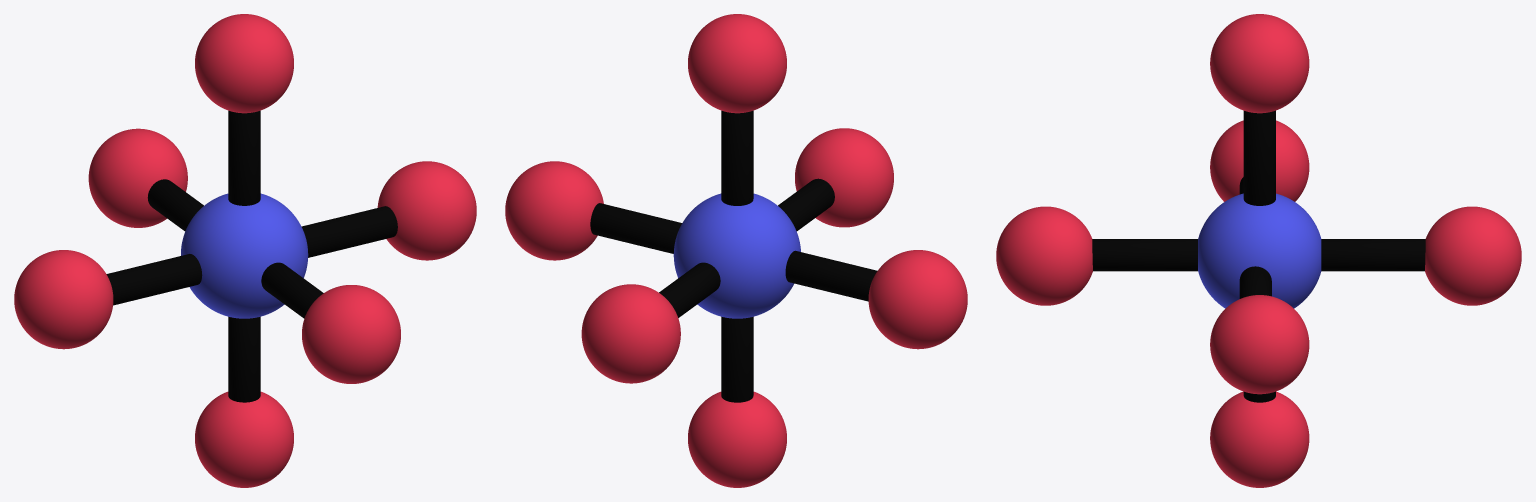
Rendered from octa.glb.
The picture shows the model from 3 angles, left to right: view 1: azimuth 30°, elevation 25°; view 2: azimuth 150°, elevation 25°; view 3: azimuth 270°, elevation 25°; orthographic projection.
Visible parts, largest first — view 1: Sphere, Sphere.004, Sphere.001, Sphere.006, Sphere.002, Sphere.003, Sphere.005, Cylinder.004, Cylinder.003, Cylinder.002, Cylinder.005, Cylinder.001 (+1 smaller); view 2: Sphere, Sphere.005, Sphere.004, Sphere.001, Sphere.003, Sphere.002, Sphere.006, Cylinder.004, Cylinder.003, Cylinder.002, Cylinder.005, Cylinder (+1 smaller); view 3: Sphere, Sphere.001, Sphere.003, Sphere.005, Sphere.006, Sphere.002, Sphere.004, Cylinder.001, Cylinder, Cylinder.004, Cylinder.003.
Boxes of the visible parts, x1,y1,x2,y2 form: Sphere: (181, 193, 308, 318); Sphere.004: (14, 250, 113, 349); Sphere.001: (195, 14, 293, 113); Sphere.006: (302, 285, 400, 383); Sphere.002: (195, 391, 293, 487); Sphere.003: (377, 161, 476, 260); Sphere.005: (88, 128, 187, 227); Cylinder.004: (228, 110, 260, 205); Cylinder.003: (301, 206, 397, 257); Cylinder.002: (106, 254, 202, 305); Cylinder.005: (228, 316, 260, 402); Cylinder.001: (261, 262, 323, 318); Sphere: (673, 193, 800, 318); Sphere.005: (581, 284, 680, 383); Sphere.004: (868, 250, 967, 349); Sphere.001: (688, 14, 786, 113); Sphere.003: (505, 161, 603, 260); Sphere.002: (688, 391, 786, 487); Sphere.006: (795, 128, 893, 227); Cylinder.004: (721, 110, 753, 205); Cylinder.003: (590, 203, 681, 253); Cylinder.002: (785, 250, 877, 301); Cylinder.005: (721, 316, 753, 402); Cylinder: (659, 262, 720, 317); Sphere: (1198, 193, 1321, 308); Sphere.001: (1210, 14, 1309, 113); Sphere.003: (1210, 295, 1309, 394); Sphere.005: (1425, 206, 1521, 305); Sphere.006: (996, 206, 1092, 305); Sphere.002: (1210, 391, 1309, 487); Sphere.004: (1210, 120, 1309, 201); Cylinder.001: (1092, 239, 1197, 271); Cylinder: (1321, 239, 1425, 271); Cylinder.004: (1243, 110, 1275, 205); Cylinder.003: (1239, 266, 1271, 298).
Size of the model in its own units: 3.86 by 3.81 by 3.91.
